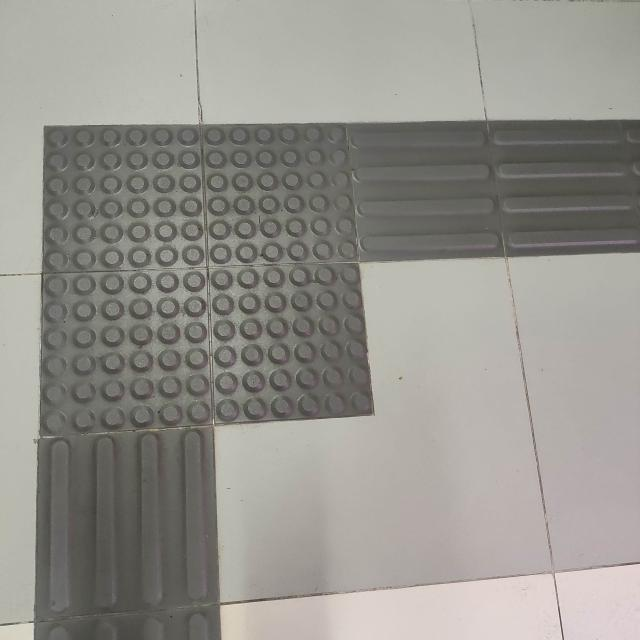kanan: (0, 89, 629, 439)
